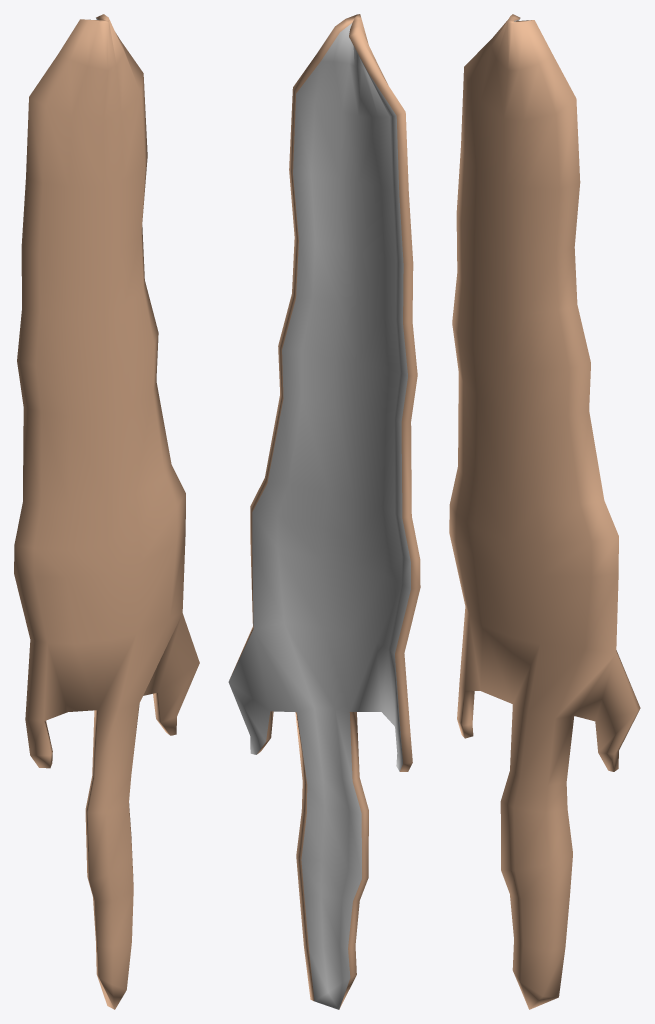
File: Foxpelt.fbx
The picture shows the model from 3 angles, left to right: view 1: azimuth 30°, elevation 25°; view 2: azimuth 150°, elevation 25°; view 3: azimuth 330°, elevation 25°; orthographic projection.
Visible parts, largest first — view 1: FoxPelt_LOD0; view 2: FoxPelt_LOD0; view 3: FoxPelt_LOD0.
Boxes of the visible parts, x1=… form: FoxPelt_LOD0: x1=14, y1=14, x2=199, y2=1009; FoxPelt_LOD0: x1=228, y1=14, x2=420, y2=1009; FoxPelt_LOD0: x1=449, y1=14, x2=640, y2=1009.
Size of what is drawn, in the model's own units: 27.43 by 139 by 6.06.
